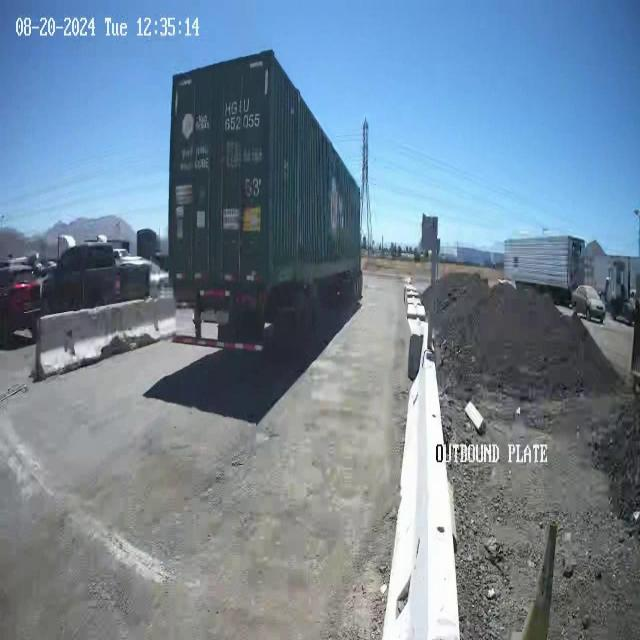TRUCK_CONTAINER: (167, 48, 363, 344)
